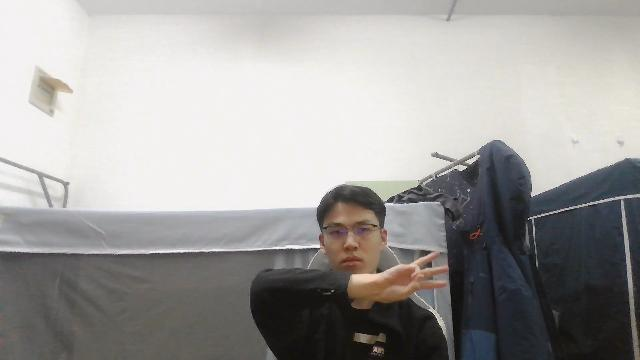three: (368, 250, 451, 304)
